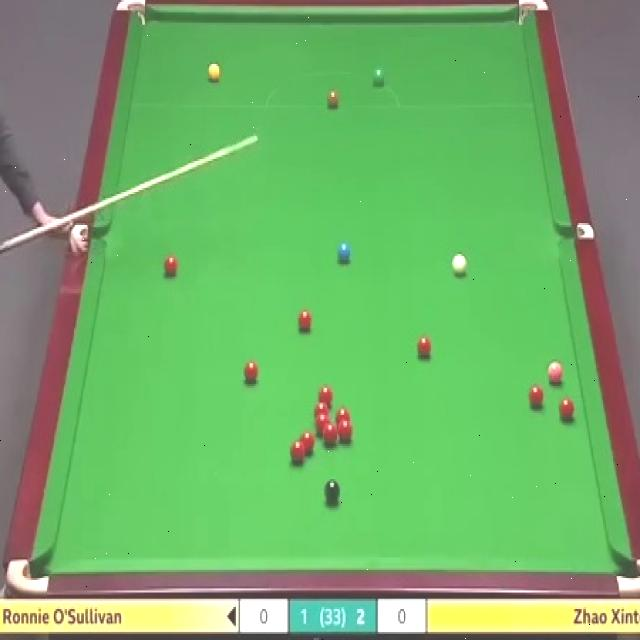black-ball: (323, 479, 341, 501)
blue-ball: (336, 242, 353, 264)
brown-ball: (326, 89, 339, 109)
green-ball: (373, 65, 385, 87)
pink-ball: (546, 361, 565, 385)
red-ball: (415, 334, 432, 358), (529, 382, 544, 409), (297, 308, 313, 333), (558, 396, 574, 421), (300, 430, 315, 455), (291, 439, 306, 464), (323, 422, 338, 446), (339, 418, 353, 443), (243, 359, 258, 382), (163, 256, 178, 278), (318, 384, 332, 406), (313, 402, 329, 419), (335, 406, 352, 422), (316, 414, 329, 434)
white-ball: (451, 251, 469, 278)
yellow-ball: (207, 63, 220, 84)
